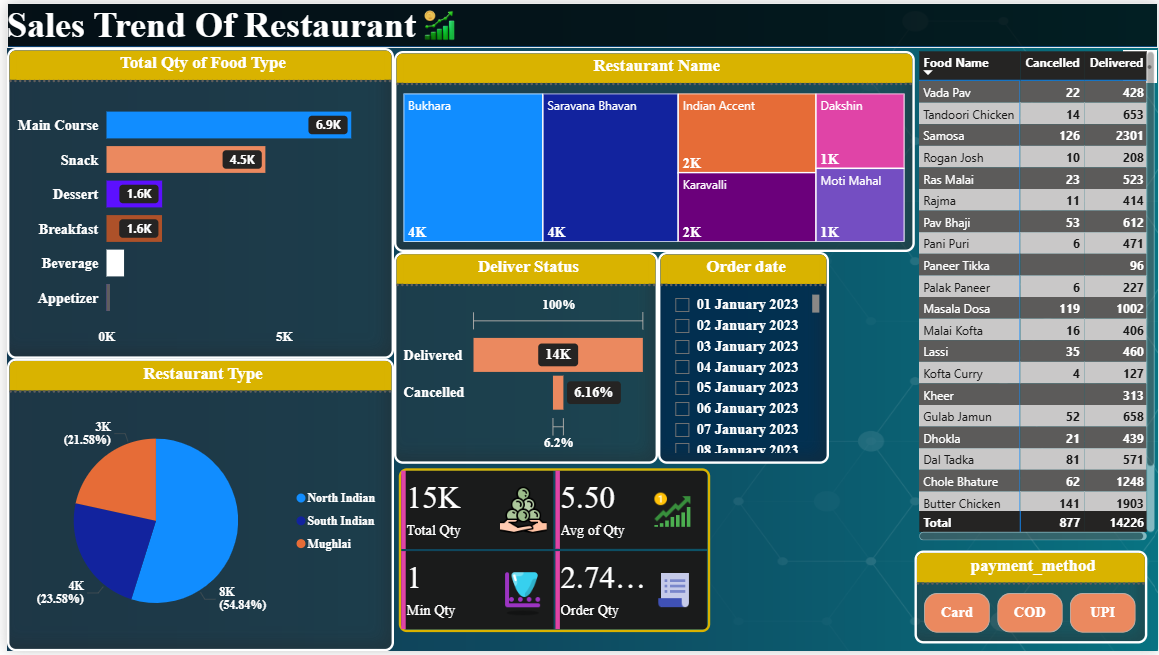

What the dashboard file says about the page in this screenshot:
{"tool":"powerbi","page":{"name":"Sales Review","canvas":[1280,720],"ordinal":0},"visuals":[{"type":"clusteredBarChart","title":"Total Qty of Food Type","fields":{"Category":["Food_Details.Food_Type"],"Y":["Sum(Part 1 - To- 10 - Orders Data.quantity)"]},"box":[0,50,430,345],"z":0},{"type":"shape","box":[0,0,1280.4,49.3],"z":1000},{"type":"cardVisual","fields":{"Data":["Sum(Part 1 - To- 10 - Orders Data.quantity)","Avg(Part 1 - To- 10 - Orders Data.quantity)","Min(Part 1 - To- 10 - Orders Data.quantity)","CountNonNull(Part 1 - To- 10 - Orders Data.order_id)"]},"box":[410,511.7,396.7,193.3],"z":2000},{"type":"image","box":[429.5,0,101.8,49.3],"z":3000},{"type":"pieChart","title":"Restaurant Type","fields":{"Y":["Sum(Part 1 - To- 10 - Orders Data.quantity)"],"Category":["Resturant_Details.Resturant_type"]},"box":[0,395,430,325],"z":4000},{"type":"funnel","title":"Deliver Status","fields":{"Y":["Sum(Part 1 - To- 10 - Orders Data.quantity)"],"Category":["Part 1 - To- 10 - Orders Data.deliver_status"]},"box":[430,276.7,293.3,235],"z":5000},{"type":"treemap","title":"Restaurant Name","fields":{"Values":["Sum(Part 1 - To- 10 - Orders Data.quantity)"],"Group":["Resturant_Details.Resturant_Name"]},"box":[430,53.3,578.3,223.3],"z":6000},{"type":"advancedSlicerVisual","fields":{"Values":["Part 1 - To- 10 - Orders Data.payment_method"]},"box":[1008.3,608.3,258.3,103.3],"z":7000},{"type":"pivotTable","fields":{"Rows":["Food_Details.Food Name"],"Columns":["Part 1 - To- 10 - Orders Data.deliver_status"],"Values":["Sum(Part 1 - To- 10 - Orders Data.quantity)"]},"box":[1008.3,48.3,271.7,553.3],"z":8000},{"type":"slicer","title":"Order date","fields":{"Values":["Part 1 - To- 10 - Orders Data.orderDate"]},"box":[723.3,276.7,190,235],"z":9000}]}

Visuals, with their boxes in screenshot pixels (x1, y1, x2, y2), scaled from the page's 1280x720 canvas onto the 1159x655 screenshot:
"Total Qty of Food Type" clusteredBarChart: (0, 45, 389, 359)
shape: (0, 0, 1158, 45)
cardVisual - Sum(Part 1 - To- 10 - Orders Data.quantity) x Avg(Part 1 - To- 10 - Orders Data.quantity): (371, 466, 730, 641)
image: (389, 0, 481, 45)
"Restaurant Type" pieChart: (0, 359, 389, 654)
"Deliver Status" funnel: (389, 252, 655, 466)
"Restaurant Name" treemap: (389, 48, 913, 252)
advancedSlicerVisual - Part 1 - To- 10 - Orders Data.payment_method: (913, 553, 1147, 647)
pivotTable - Food_Details.Food Name x Part 1 - To- 10 - Orders Data.deliver_status: (913, 44, 1158, 547)
"Order date" slicer: (655, 252, 827, 466)
